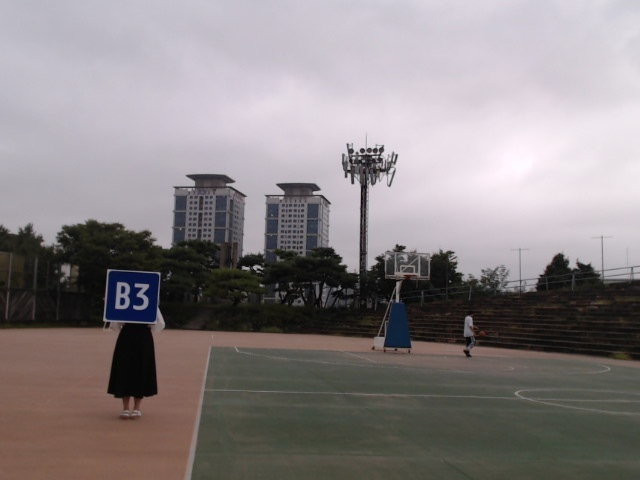delivery_b3: (105, 270, 159, 323)
